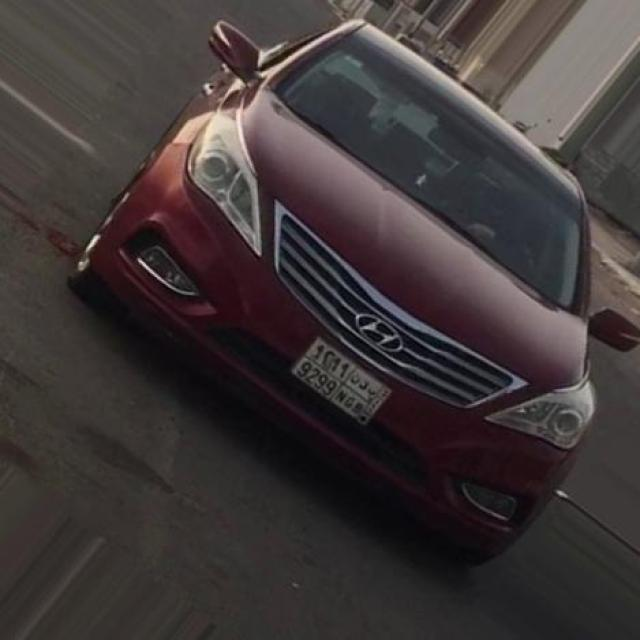Car-plate: (272, 323, 407, 446)
